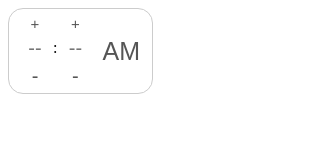
Test case: TimeInput – stepping from empty toward bounds › steps up from an empty value toward the minimum
Expected: the 1st field with placeholder "--" is empty, [17,36,53,61]
Click the 1st button "+": [35, 23] box [17,11,53,36]
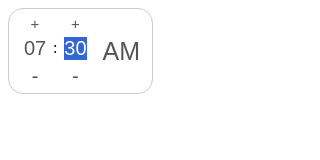
Expected: the 1st field with placeholder "--" is not empty, [17,36,53,61]
